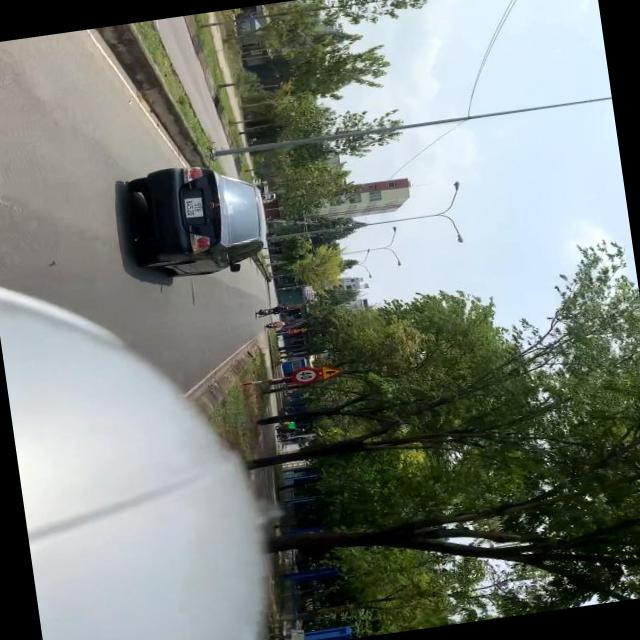P-127: (290, 366, 320, 386)
W-207b: (320, 361, 344, 382)
